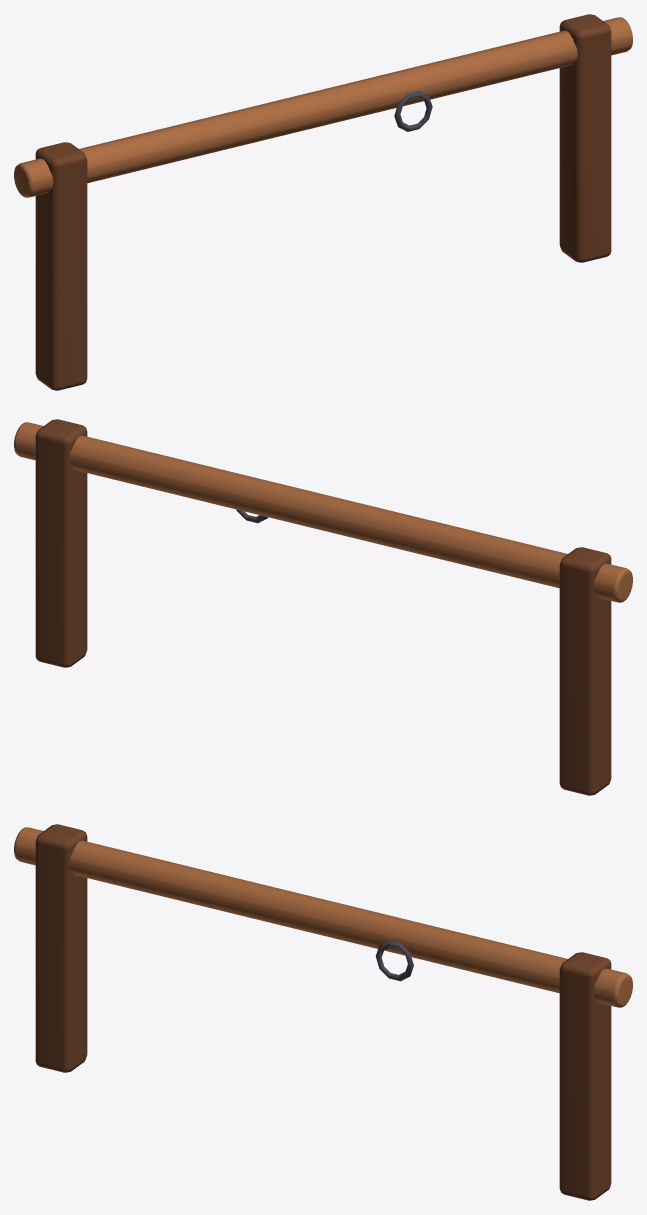
The model's file is gulch_hitch.glb.
3 renders of one model, top to bottom at view 1: azimuth 30°, elevation 25°; view 2: azimuth 150°, elevation 25°; view 3: azimuth 330°, elevation 25°, orthographic.
Visible parts, largest first — view 1: Hitch; view 2: Hitch; view 3: Hitch.
Part boxes in pixels (x1=…): Hitch: x1=14, y1=14, x2=632, y2=390; Hitch: x1=14, y1=419, x2=632, y2=795; Hitch: x1=14, y1=824, x2=632, y2=1200.
Bounding box in the file's own units: 3 × 1.1 × 0.185.
